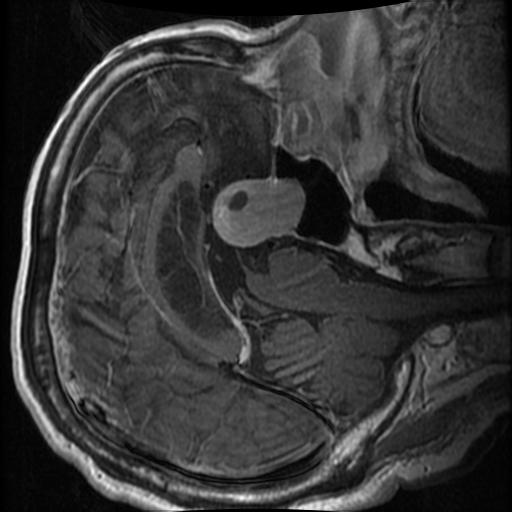pituitary tumour: (210, 177, 305, 247)
